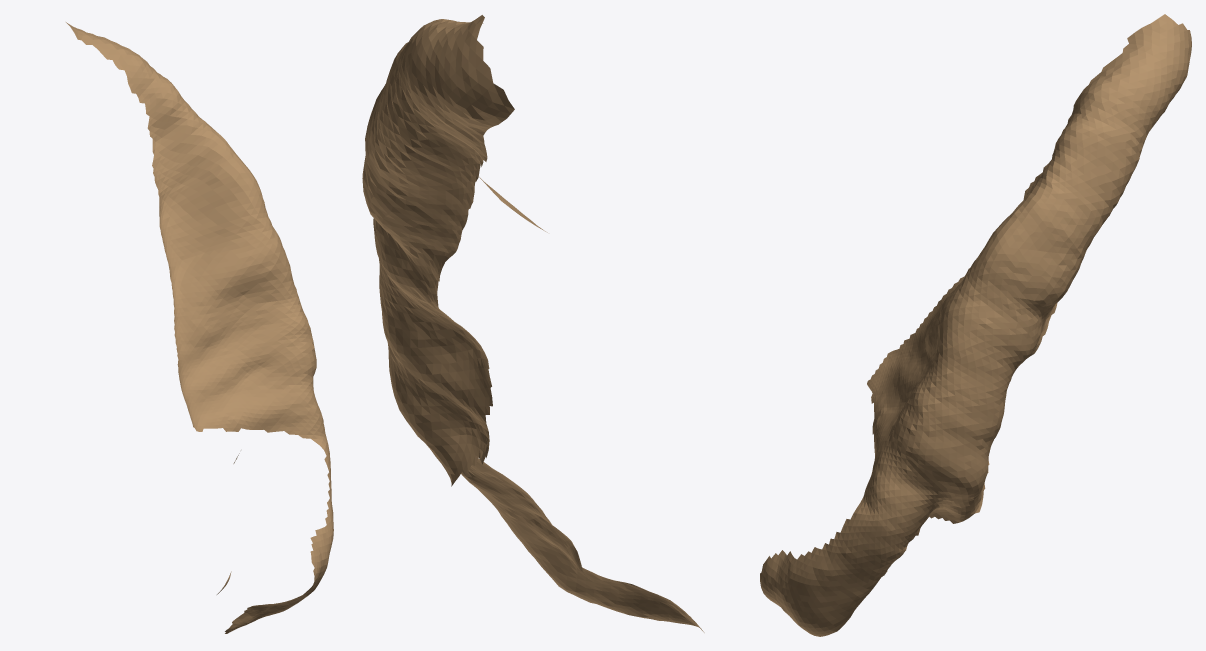
The model's file is rh_middletemporal.glb.
3 views of the same model, side by side, from view 1: azimuth 30°, elevation 25°; view 2: azimuth 150°, elevation 25°; view 3: azimuth 270°, elevation 25° (orthographic). The views are drawn at different scales.
Parts seen in each view (by area): view 1: world; view 2: world; view 3: world.
Part boxes in pixels (left/top/right/bottom): world: left=66, top=22, right=333, bottom=633; world: left=362, top=15, right=704, bottom=632; world: left=760, top=14, right=1191, bottom=636.
Size of the model in its own units: 30.2 by 79.33 by 53.11.
